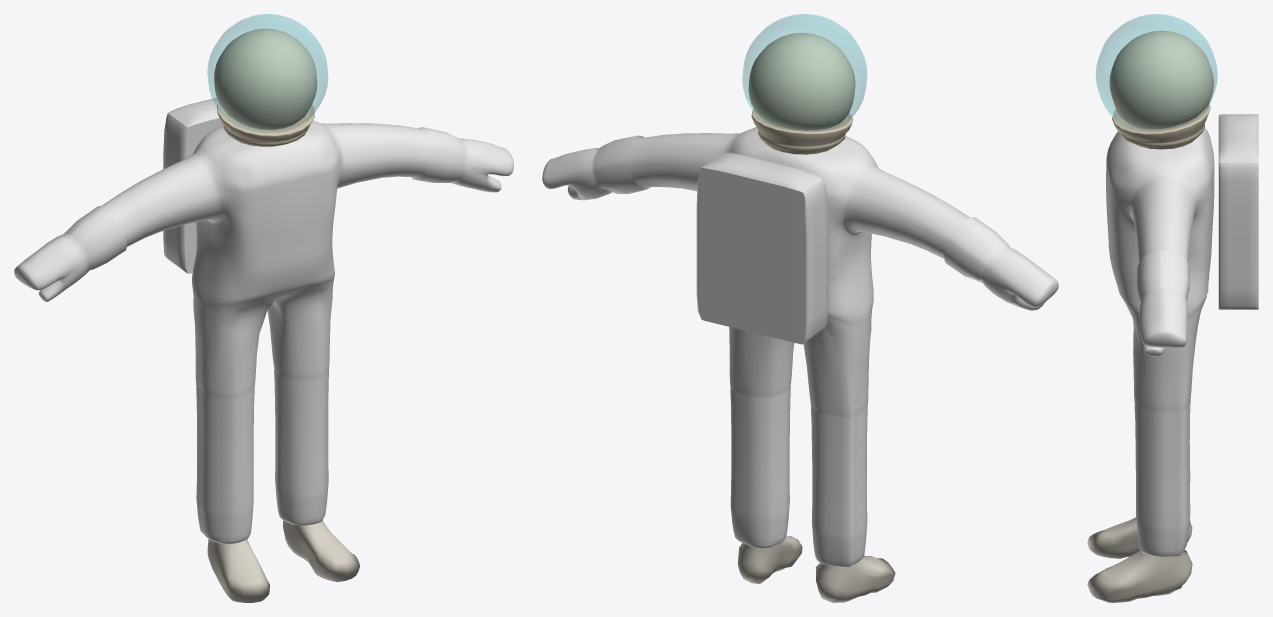
File: Astroo_model.fbx
The picture shows the model from 3 angles, left to right: view 1: azimuth 30°, elevation 25°; view 2: azimuth 150°, elevation 25°; view 3: azimuth 270°, elevation 25°; orthographic projection. The views are drawn at different scales.
Parts seen in each view (by area): view 1: pCube1, pSphere2, pSphere3, Shoe, pCube2; view 2: pCube1, pCube2, pSphere2, pSphere3, Shoe; view 3: pCube1, pSphere2, pSphere3, pCube2, Shoe.
Boxes of the visible parts, x1=… form: pCube1: x1=14, y1=120, x2=513, y2=544; pSphere2: x1=207, y1=14, x2=327, y2=131; pSphere3: x1=214, y1=28, x2=317, y2=146; Shoe: x1=207, y1=520, x2=359, y2=602; pCube2: x1=163, y1=98, x2=223, y2=273; pCube1: x1=542, y1=127, x2=1058, y2=567; pCube2: x1=696, y1=152, x2=828, y2=344; pSphere2: x1=742, y1=14, x2=866, y2=130; pSphere3: x1=748, y1=33, x2=855, y2=154; Shoe: x1=737, y1=536, x2=895, y2=602; pCube1: x1=1106, y1=127, x2=1214, y2=557; pSphere2: x1=1096, y1=14, x2=1217, y2=130; pSphere3: x1=1109, y1=30, x2=1213, y2=149; pCube2: x1=1218, y1=114, x2=1258, y2=309; Shoe: x1=1087, y1=517, x2=1192, y2=602.
Size of the model in its own units: 25.52 by 27.54 by 7.73.
